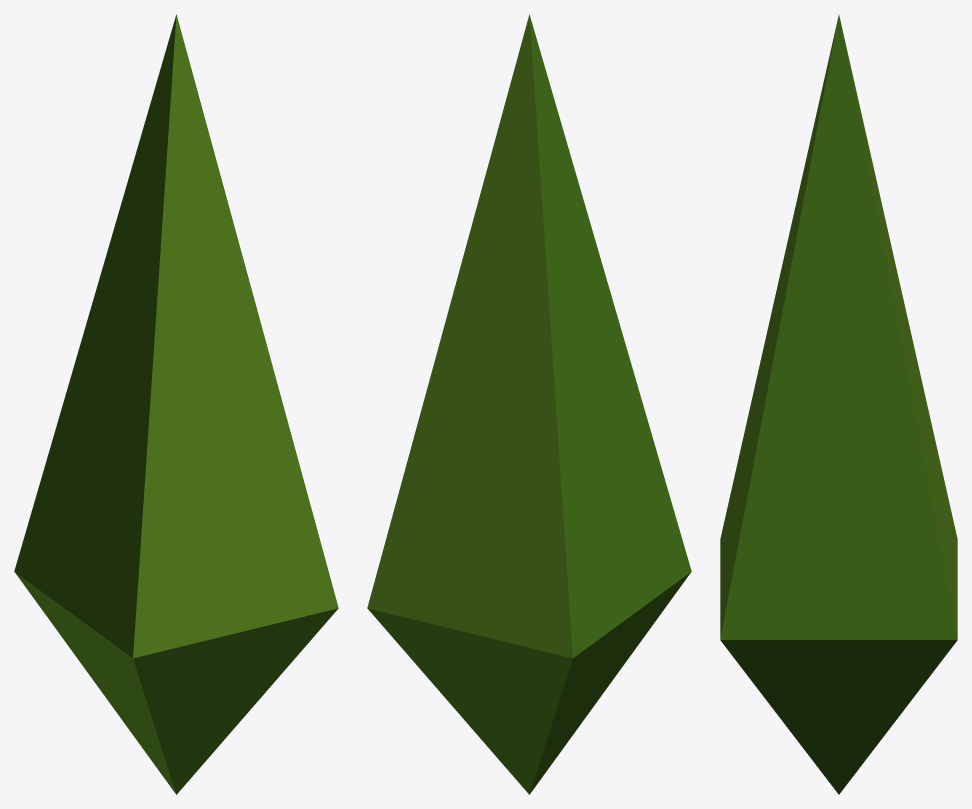
Rendered from SF_Env_BackgroundTree_02.fbx.
3 views of the same model, side by side, from view 1: azimuth 30°, elevation 25°; view 2: azimuth 150°, elevation 25°; view 3: azimuth 270°, elevation 25° (orthographic).
Visible parts, largest first — view 1: SF_Env_BackgroundTree_02; view 2: SF_Env_BackgroundTree_02; view 3: SF_Env_BackgroundTree_02.
Boxes of the visible parts, bbox=[...] form: SF_Env_BackgroundTree_02: bbox=[14, 14, 338, 794]; SF_Env_BackgroundTree_02: bbox=[367, 14, 691, 794]; SF_Env_BackgroundTree_02: bbox=[720, 15, 957, 794].
Size of the model in its own units: 3.08 by 11.17 by 3.08.
